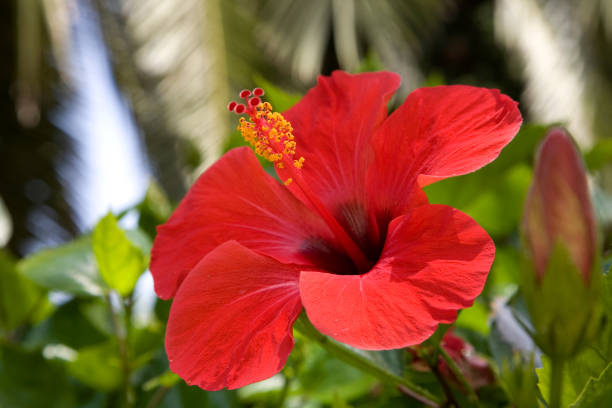Hibiscus: (149, 54, 518, 400)
